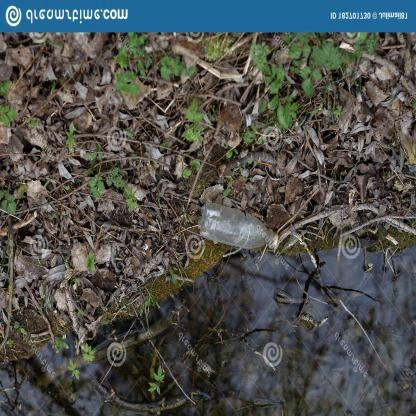Plastic: (196, 200, 282, 256)
